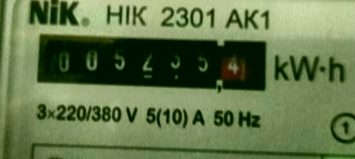0: (55, 47, 71, 73), (83, 47, 99, 72)
2: (138, 46, 155, 73)
3: (165, 45, 184, 70)
4: (223, 48, 242, 78)
5: (193, 45, 211, 74), (111, 45, 126, 71)
screen: (23, 18, 276, 104)
